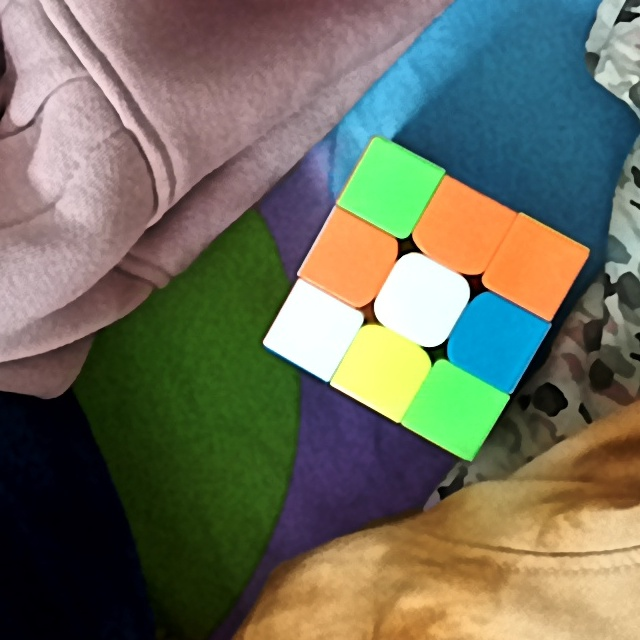tile: (432, 201, 491, 256), (424, 386, 486, 436), (466, 315, 523, 369), (324, 232, 380, 286), (363, 163, 419, 216), (508, 241, 563, 294), (353, 344, 408, 397), (397, 275, 449, 329), (288, 304, 339, 359)
